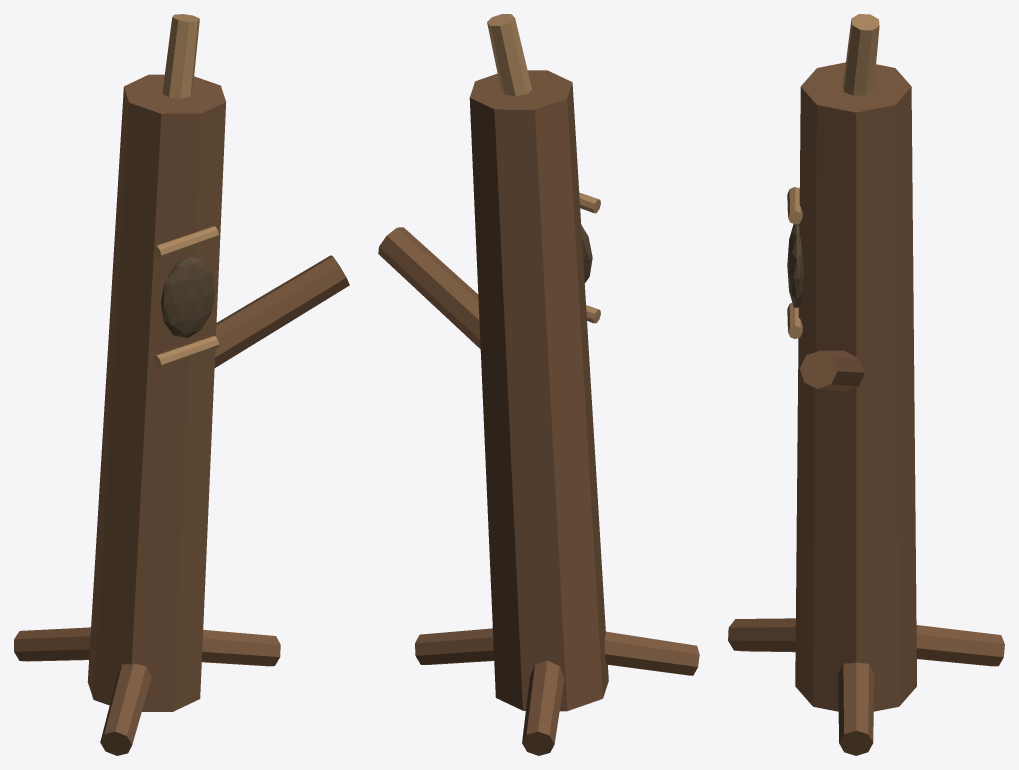
3 views of the same model, side by side, from view 1: azimuth 30°, elevation 25°; view 2: azimuth 150°, elevation 25°; view 3: azimuth 270°, elevation 25° (orthographic). The views are drawn at different scales.
Visible parts, largest first — view 1: WW-019 Retained cavity snag and perch batched; view 2: WW-019 Retained cavity snag and perch batched; view 3: WW-019 Retained cavity snag and perch batched.
Boxes of the visible parts, x1,y1,x2,y2 form: WW-019 Retained cavity snag and perch batched: (14,14,349,755); WW-019 Retained cavity snag and perch batched: (378,14,699,755); WW-019 Retained cavity snag and perch batched: (728,14,1004,755).
Size of the model in its own units: 0.7205 by 1.64 by 0.5911.
